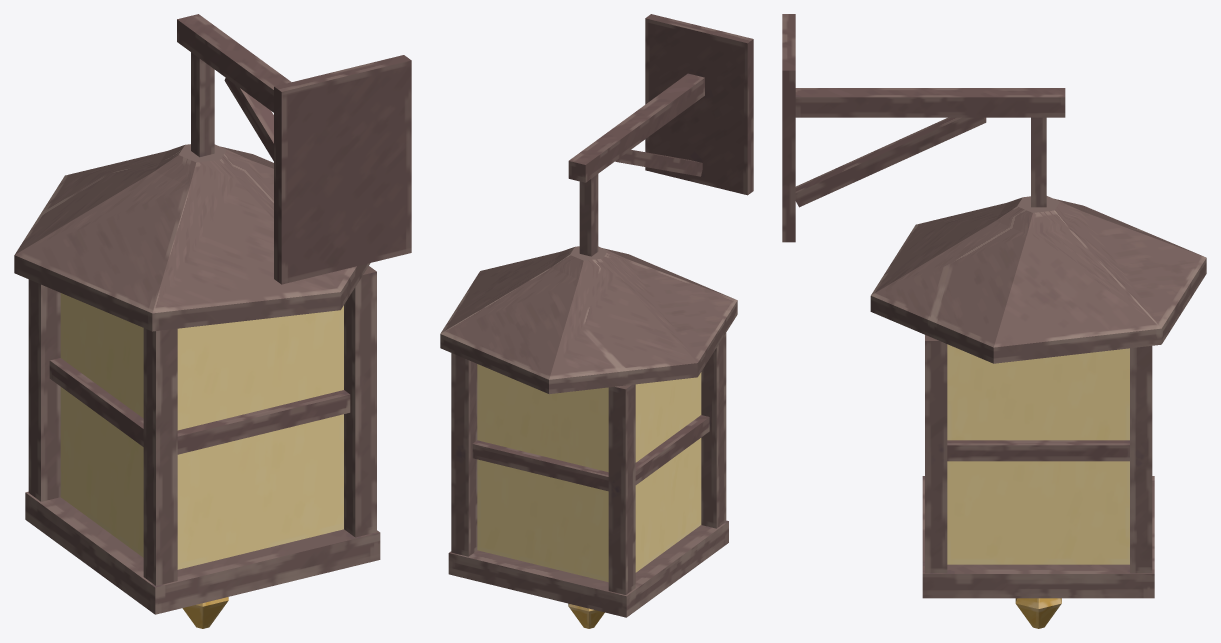
Rendered from lantern_wall_low.fbx.
The picture shows the model from 3 angles, left to right: view 1: azimuth 30°, elevation 25°; view 2: azimuth 150°, elevation 25°; view 3: azimuth 270°, elevation 25°; orthographic projection. The views are drawn at different scales.
Visible parts, largest first — view 1: lantern_wall; view 2: lantern_wall; view 3: lantern_wall.
Part boxes in pixels (x1,y1,x2,y2): lantern_wall: (14, 14, 411, 628); lantern_wall: (440, 14, 753, 628); lantern_wall: (782, 14, 1206, 628).
Bounding box in the file's own units: 1.51 × 2.89 × 1.9.
1 material, 1 textured.
